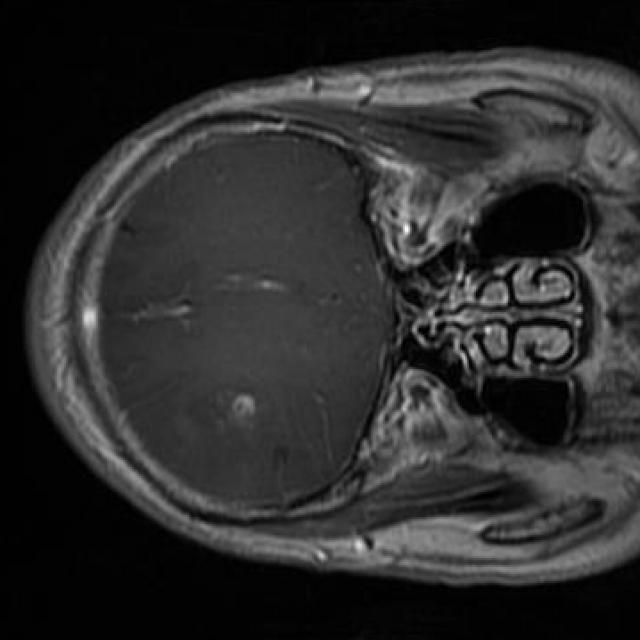glioma: (193, 387, 258, 428)
